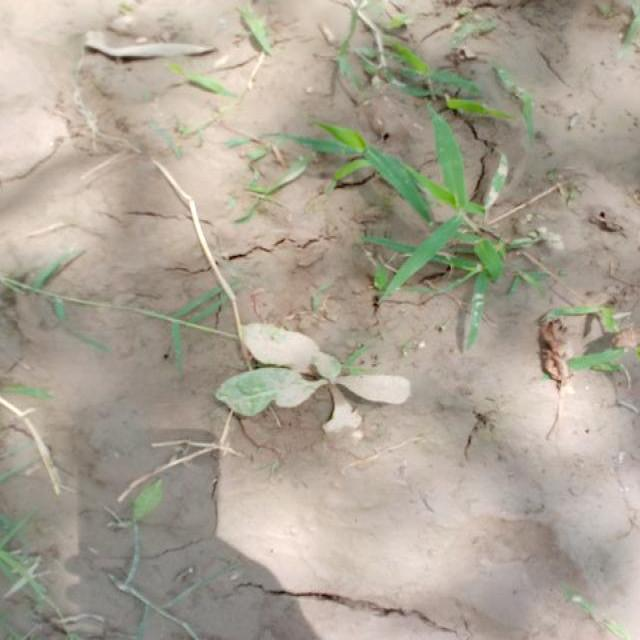crop: (216, 335, 417, 448)
